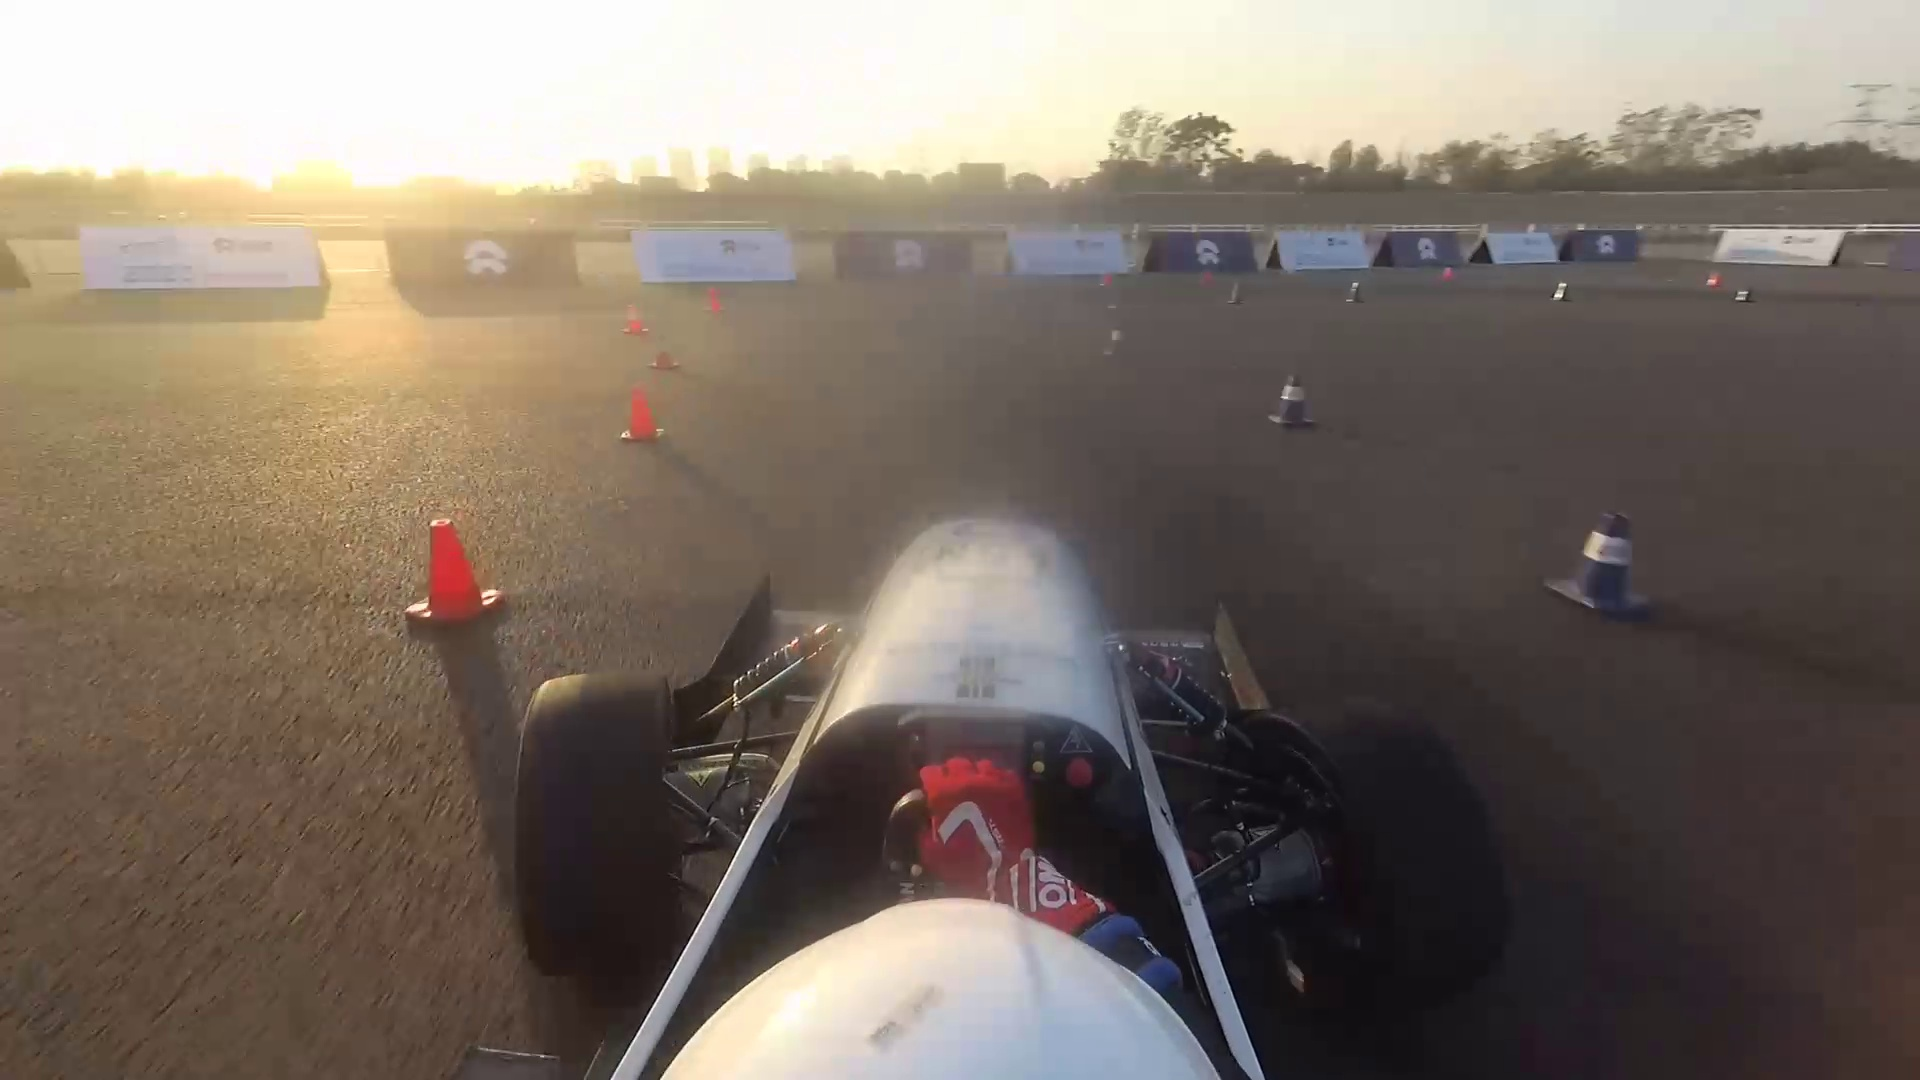blue_cone: (1543, 483, 1647, 633), (1266, 345, 1328, 442), (1102, 320, 1137, 360), (1345, 277, 1367, 309), (1735, 281, 1756, 311), (1228, 280, 1247, 309), (1549, 281, 1575, 302)
red_cone: (404, 512, 513, 633), (618, 377, 674, 454), (618, 294, 657, 338), (708, 276, 729, 316), (1706, 266, 1725, 290), (1443, 262, 1458, 281)
